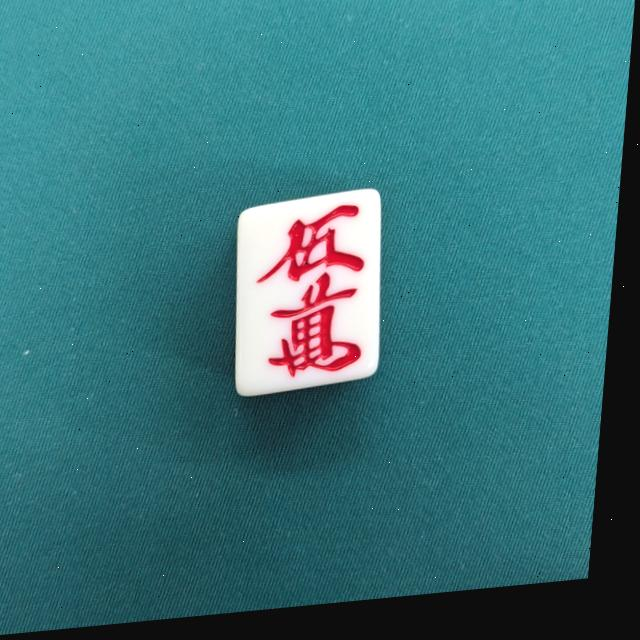D5m: (232, 196, 399, 404)
